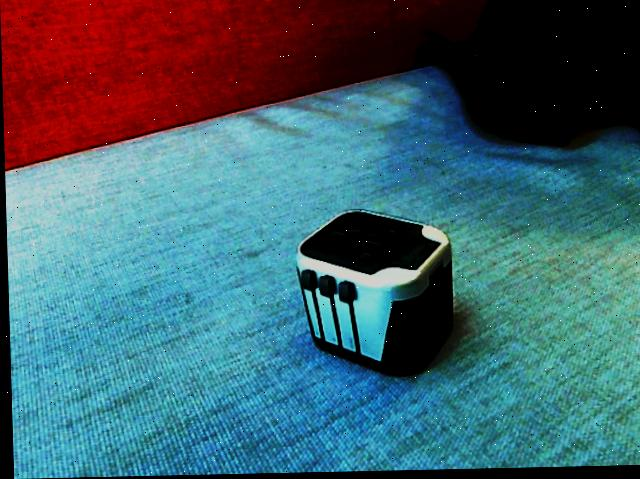adapter: (292, 209, 454, 380)
